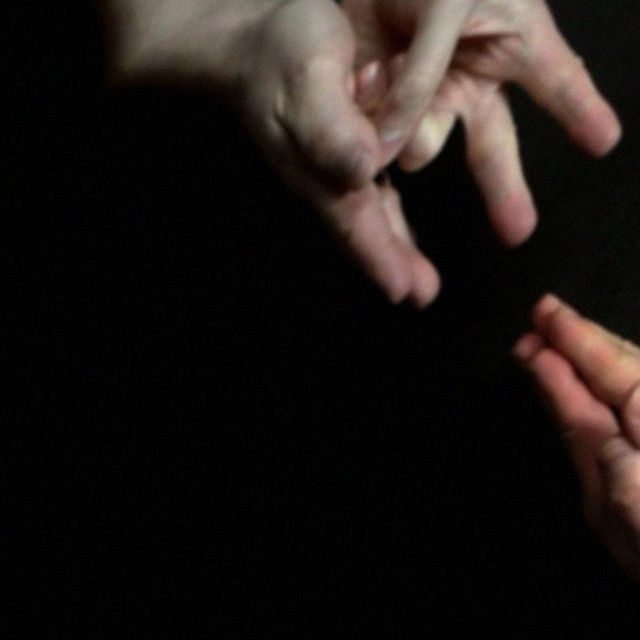Paper: (508, 215, 640, 505)
Scissors: (276, 0, 640, 265)
